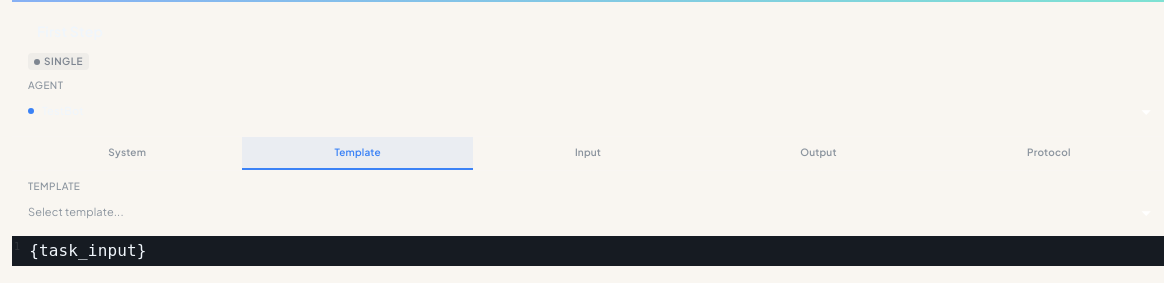
StepProperties › input tab › shows empty state when no upstream steps
The image size is (1164, 283).
Step 1. Click the tab "Input" → [588, 152], box [575,146,601,158]
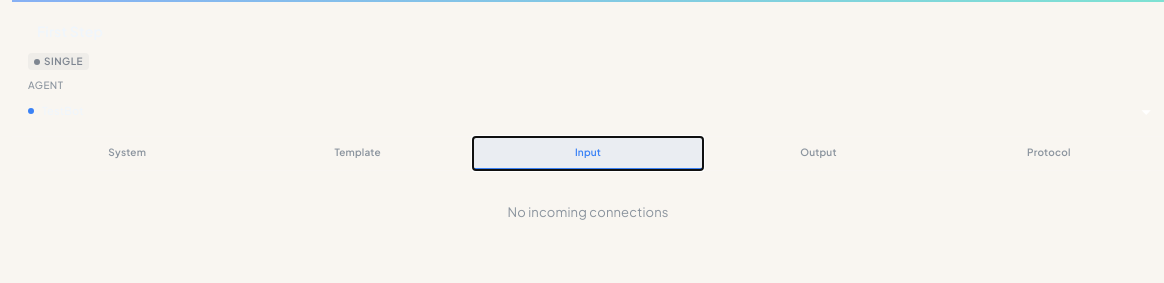
Check: the text "No incoming connections" is shown, box [507,203,669,221]
